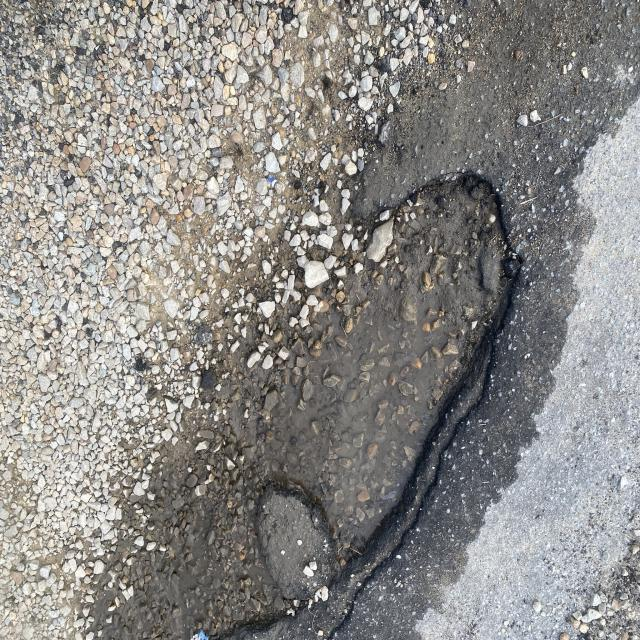pothole: (188, 147, 533, 640)
